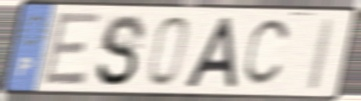0: (145, 13, 195, 90)
A: (181, 15, 239, 91)
C: (240, 16, 294, 89)
E: (40, 10, 104, 89)
I: (303, 16, 339, 93)
S: (93, 13, 149, 90)
